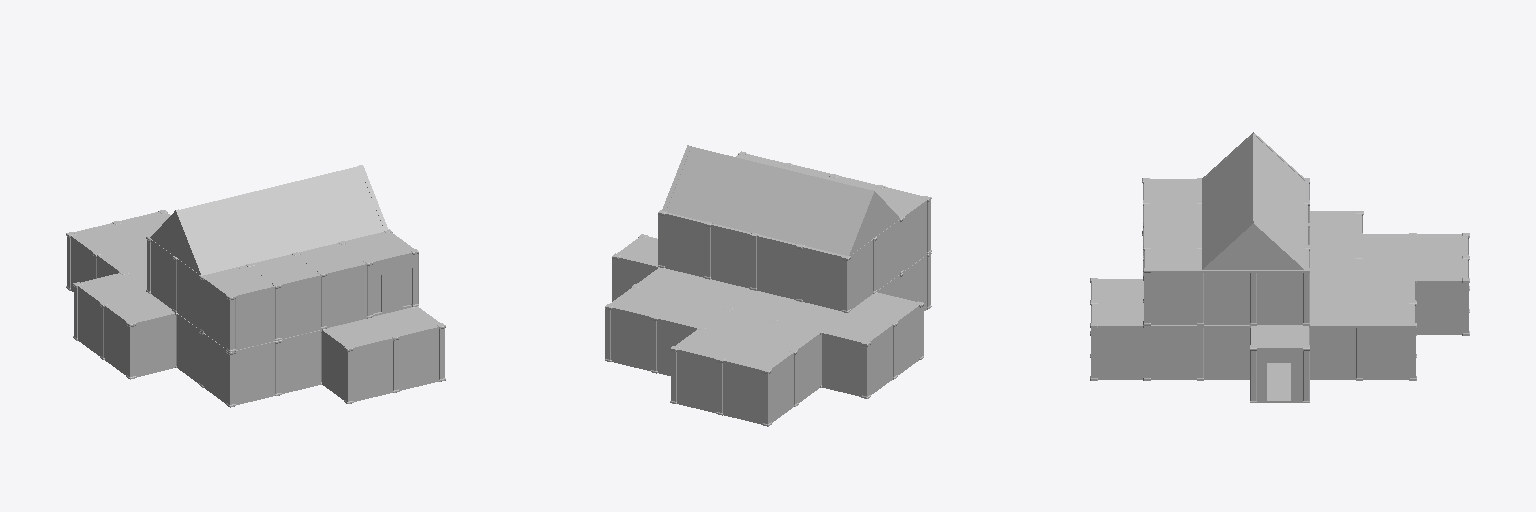
The model's file is Interior.obj.
3 views of the same model, side by side, from view 1: azimuth 30°, elevation 25°; view 2: azimuth 150°, elevation 25°; view 3: azimuth 270°, elevation 25° (orthographic).
Parts seen in each view (by area): view 1: Plane.007_Plane.012, Techo_Plane.002, Techo_P2_1_Plane.004, Cube.064_Cube.031, Cube.078_Cube.021, Cube.052_Cube.002, Cube.053_Cube.002, Cube.081_Cube.025, Cube.039_Cube.001, Cube.038_Cube.001, Cube.077_Cube.020, Plane.006_Plane.011 (+10 smaller); view 2: Techo_Plane.002, Plane.007_Plane.012, Cube.114_Cube.057, Cube.113_Cube.056, Cube.108_Cube.051, Cube.107_Cube.050, Cube.063_Cube.002, Cube.059_Cube.002, Cube.060_Cube.002, Cube.055_Cube.002, Plane.006_Plane.011, Techo_P2_1_Plane.004 (+10 smaller); view 3: Techo_Plane.002, Plane.007_Plane.012, Techo_P2_1_Plane.004, Cube.049_Cube.001, Cube.082_Cube.002, Cube.051_Cube.002, Plane.004_Plane.010, Cube.050_Cube.002, Cube.054_Cube.002, Cube.041_Cube.001, Cube.048_Cube.002, Cube.109_Cube.052 (+3 smaller).
Part boxes in pixels (left/top/right/bottom): Plane.007_Plane.012: left=180, top=166, right=383, bottom=274; Techo_Plane.002: left=73, top=212, right=437, bottom=346; Techo_P2_1_Plane.004: left=206, top=232, right=411, bottom=294; Cube.064_Cube.031: left=135, top=313, right=175, bottom=377; Cube.078_Cube.021: left=326, top=263, right=366, bottom=327; Cube.052_Cube.002: left=399, top=326, right=438, bottom=390; Cube.053_Cube.002: left=353, top=337, right=392, bottom=401; Cube.081_Cube.025: left=281, top=274, right=320, bottom=338; Cube.039_Cube.001: left=281, top=330, right=320, bottom=393; Cube.038_Cube.001: left=235, top=341, right=274, bottom=404; Cube.077_Cube.020: left=235, top=286, right=274, bottom=349; Plane.006_Plane.011: left=150, top=209, right=204, bottom=275; Techo_Plane.002: left=612, top=237, right=916, bottom=368; Plane.007_Plane.012: left=666, top=147, right=870, bottom=254; Cube.114_Cube.057: left=664, top=212, right=704, bottom=277; Cube.113_Cube.056: left=802, top=246, right=843, bottom=310; Cube.108_Cube.051: left=757, top=235, right=797, bottom=299; Cube.107_Cube.050: left=711, top=224, right=750, bottom=288; Cube.063_Cube.002: left=822, top=332, right=861, bottom=396; Cube.059_Cube.002: left=677, top=348, right=716, bottom=412; Cube.060_Cube.002: left=723, top=360, right=763, bottom=424; Cube.055_Cube.002: left=611, top=307, right=651, bottom=370; Plane.006_Plane.011: left=845, top=190, right=899, bottom=255; Techo_P2_1_Plane.004: left=738, top=155, right=924, bottom=215; Techo_Plane.002: left=1094, top=212, right=1465, bottom=346; Plane.007_Plane.012: left=1202, top=134, right=1304, bottom=267; Techo_P2_1_Plane.004: left=1146, top=180, right=1200, bottom=268; Cube.049_Cube.001: left=1363, top=324, right=1409, bottom=379; Cube.082_Cube.002: left=1150, top=269, right=1196, bottom=324; Cube.051_Cube.002: left=1097, top=324, right=1143, bottom=379; Plane.004_Plane.010: left=1202, top=221, right=1304, bottom=269; Cube.050_Cube.002: left=1150, top=325, right=1196, bottom=379; Cube.054_Cube.002: left=1310, top=324, right=1355, bottom=379; Cube.041_Cube.001: left=1416, top=280, right=1462, bottom=334; Cube.048_Cube.002: left=1204, top=325, right=1249, bottom=379; Cube.109_Cube.052: left=1204, top=270, right=1249, bottom=324.
Bounding box in the file's own units: 27.04 × 14.32 × 31.43.